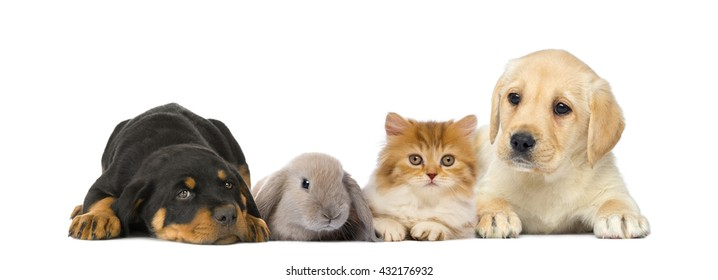cat: (375, 115, 482, 245)
dog: (485, 45, 658, 239), (74, 102, 247, 253)
rabbit: (261, 154, 363, 243)
